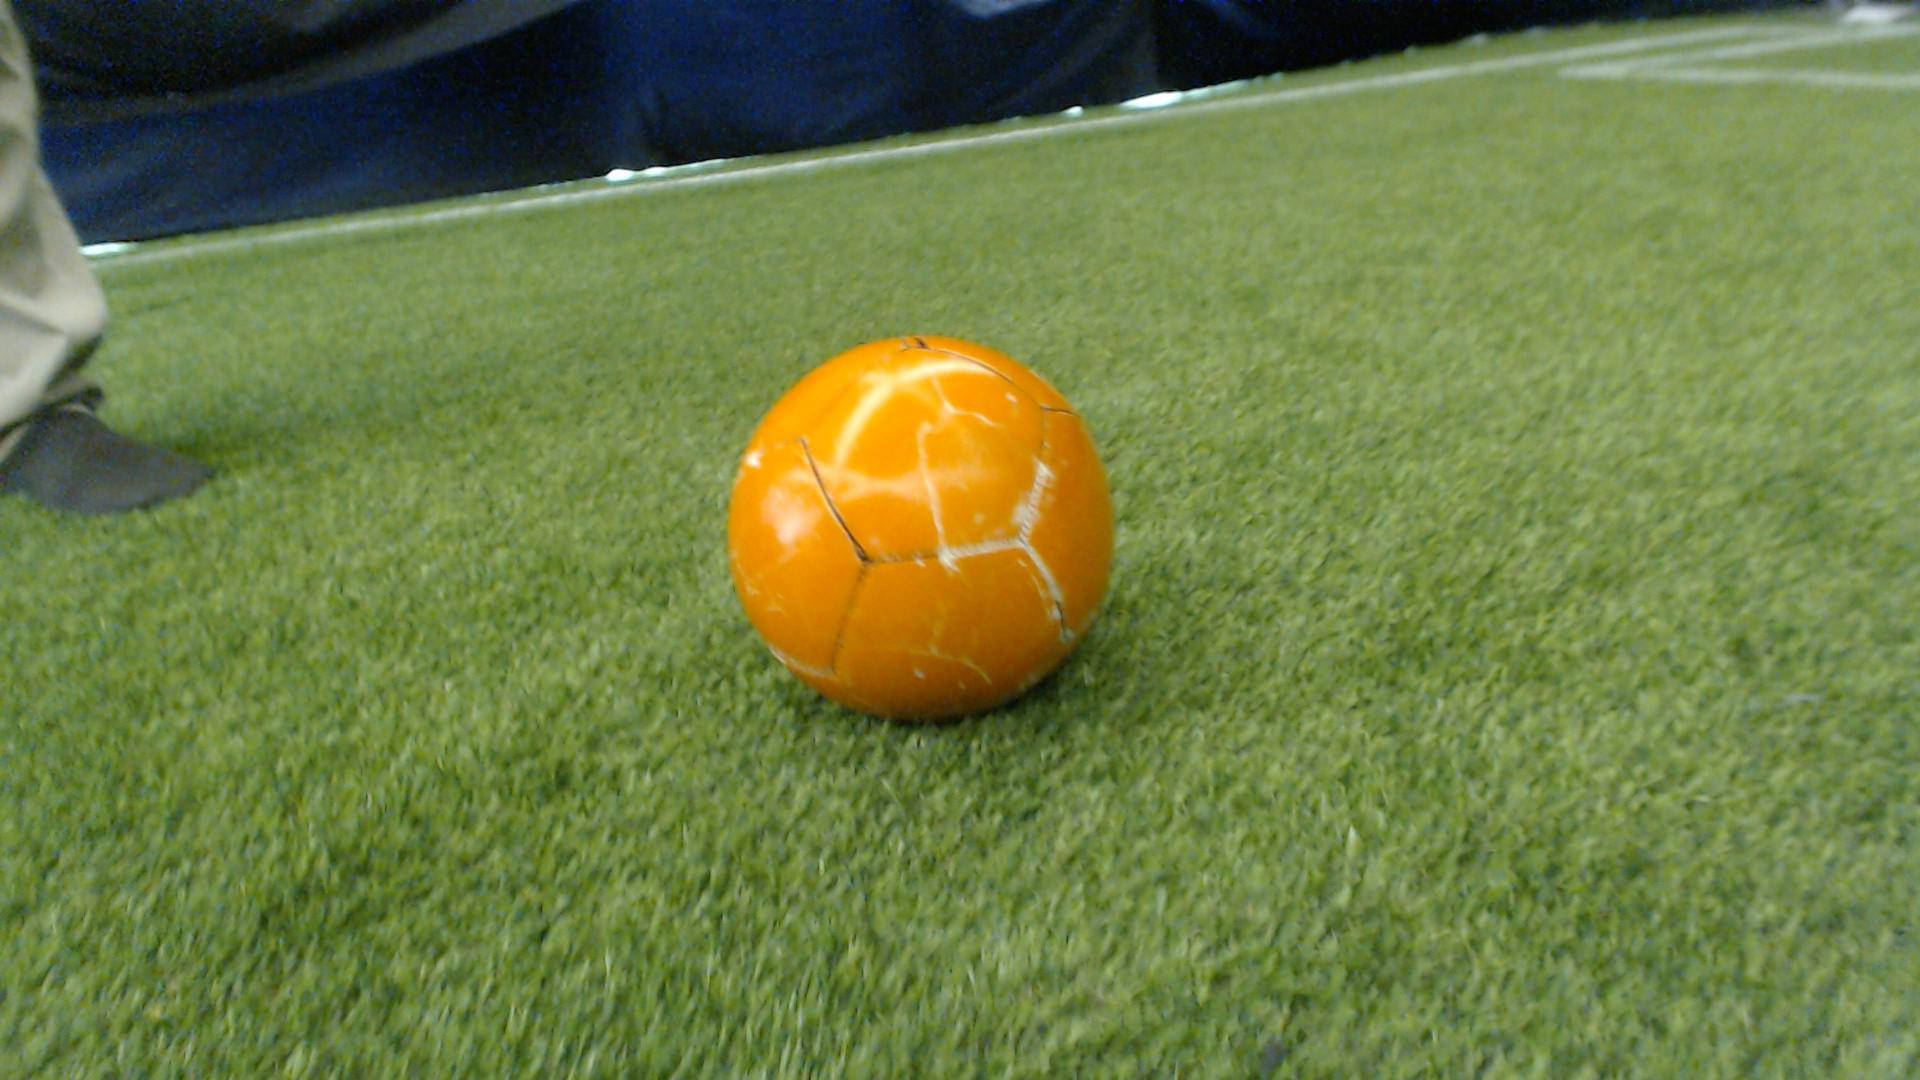bola: (708, 322, 1138, 727)
